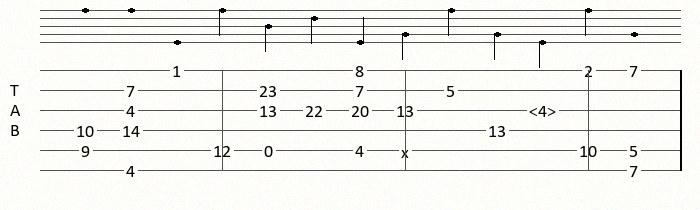0: (264, 143, 277, 158)
1: (172, 63, 185, 78)
10: (76, 123, 98, 138), (579, 143, 601, 158)
12: (213, 143, 235, 158)
13: (259, 103, 281, 118), (396, 103, 418, 118), (488, 123, 510, 138)
14: (122, 123, 144, 138)
2: (584, 63, 597, 78)
20: (351, 103, 373, 118)
22: (305, 103, 327, 118)
23: (259, 83, 281, 98)
4: (126, 163, 139, 178), (126, 103, 139, 118), (355, 143, 368, 158)
5: (446, 83, 459, 98), (629, 143, 642, 158)
7: (126, 83, 139, 98), (355, 83, 368, 98), (629, 163, 642, 178), (629, 63, 642, 78)
8: (355, 63, 368, 78)
9: (81, 143, 94, 158)
harmonic: (529, 103, 560, 118)
x: (401, 144, 413, 156)
